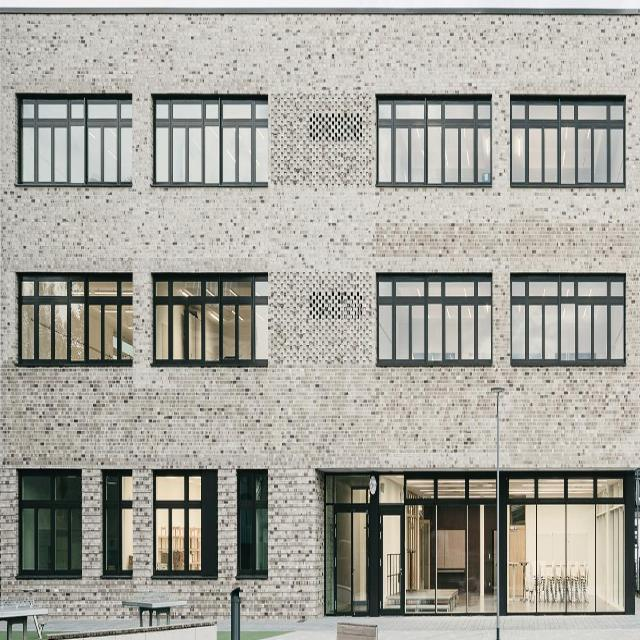door: (334, 506, 404, 616)
wall: (0, 15, 639, 627)
windows: (323, 484, 627, 616), (510, 278, 625, 371), (152, 104, 268, 192), (509, 104, 624, 192), (19, 101, 131, 191), (18, 270, 132, 356), (375, 276, 491, 358), (151, 277, 266, 358), (377, 101, 491, 182), (16, 468, 80, 577), (152, 479, 217, 572), (101, 474, 134, 578), (236, 480, 267, 580)
